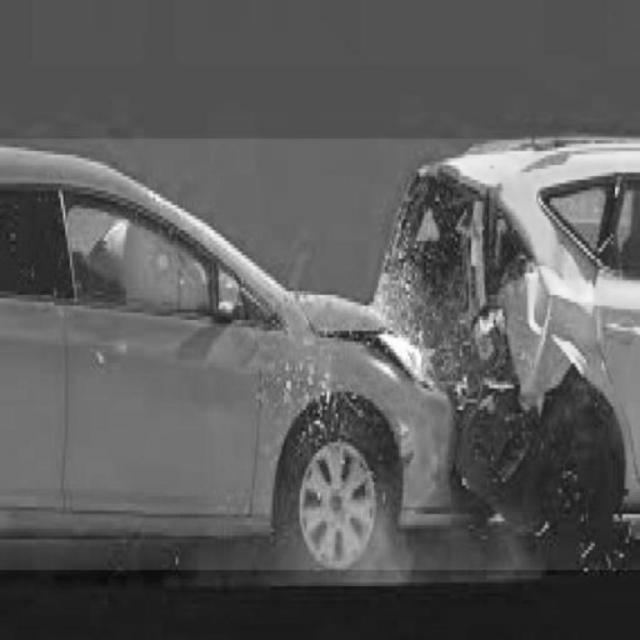accident: (0, 139, 640, 570)
